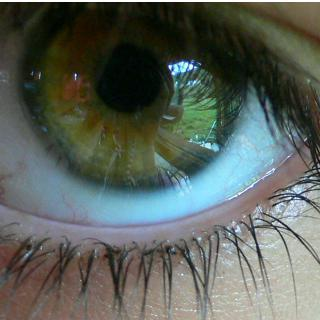pupil: (92, 41, 163, 112)
